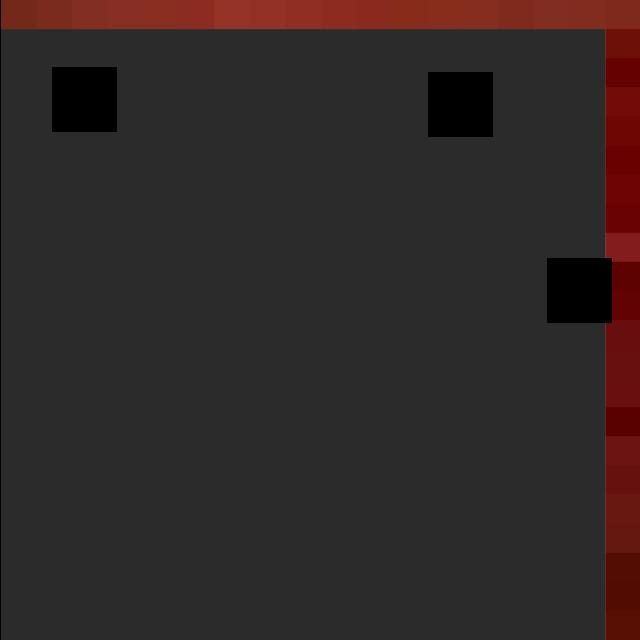fire: (0, 29, 605, 640)
